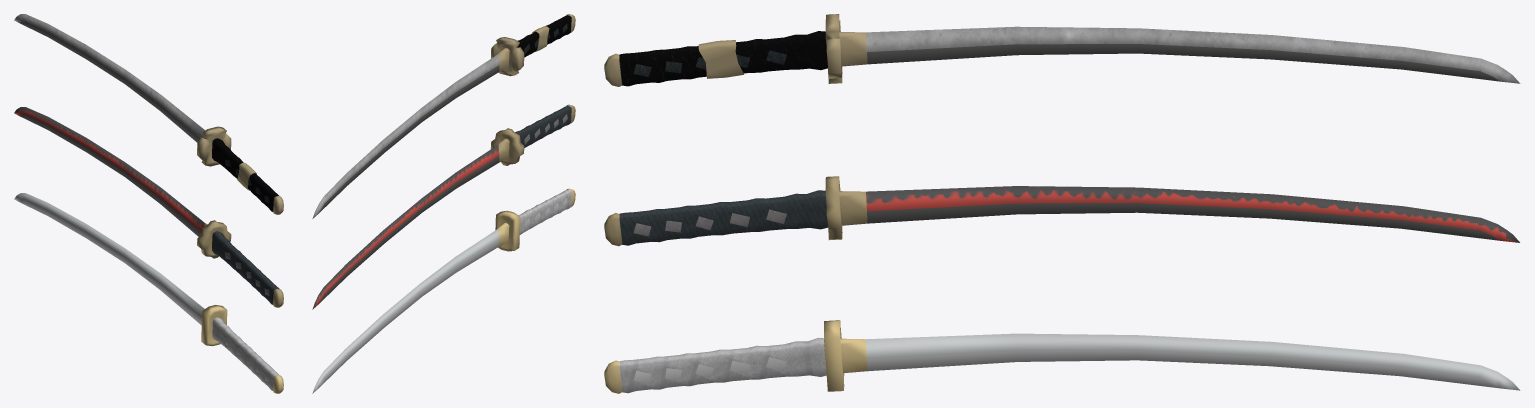
File: ZZZZZO.fbx
The picture shows the model from 3 angles, left to right: view 1: azimuth 30°, elevation 25°; view 2: azimuth 150°, elevation 25°; view 3: azimuth 270°, elevation 25°; orthographic projection. The views are drawn at different scales.
Visible parts, largest first — view 1: 2.001, Cube, 2; view 2: 2.001, Cube, 2; view 3: 2.001, Cube, 2.
Part boxes in pixels (<box>): 2.001: <box>14,14,283,214</box>; Cube: <box>14,193,283,393</box>; 2: <box>14,107,283,307</box>; 2.001: <box>312,14,575,218</box>; Cube: <box>312,188,575,393</box>; 2: <box>312,104,575,309</box>; 2.001: <box>604,14,1520,86</box>; Cube: <box>604,320,1520,393</box>; 2: <box>604,176,1519,246</box>.
Size of the model in its own units: 50.74 by 351 by 779.
